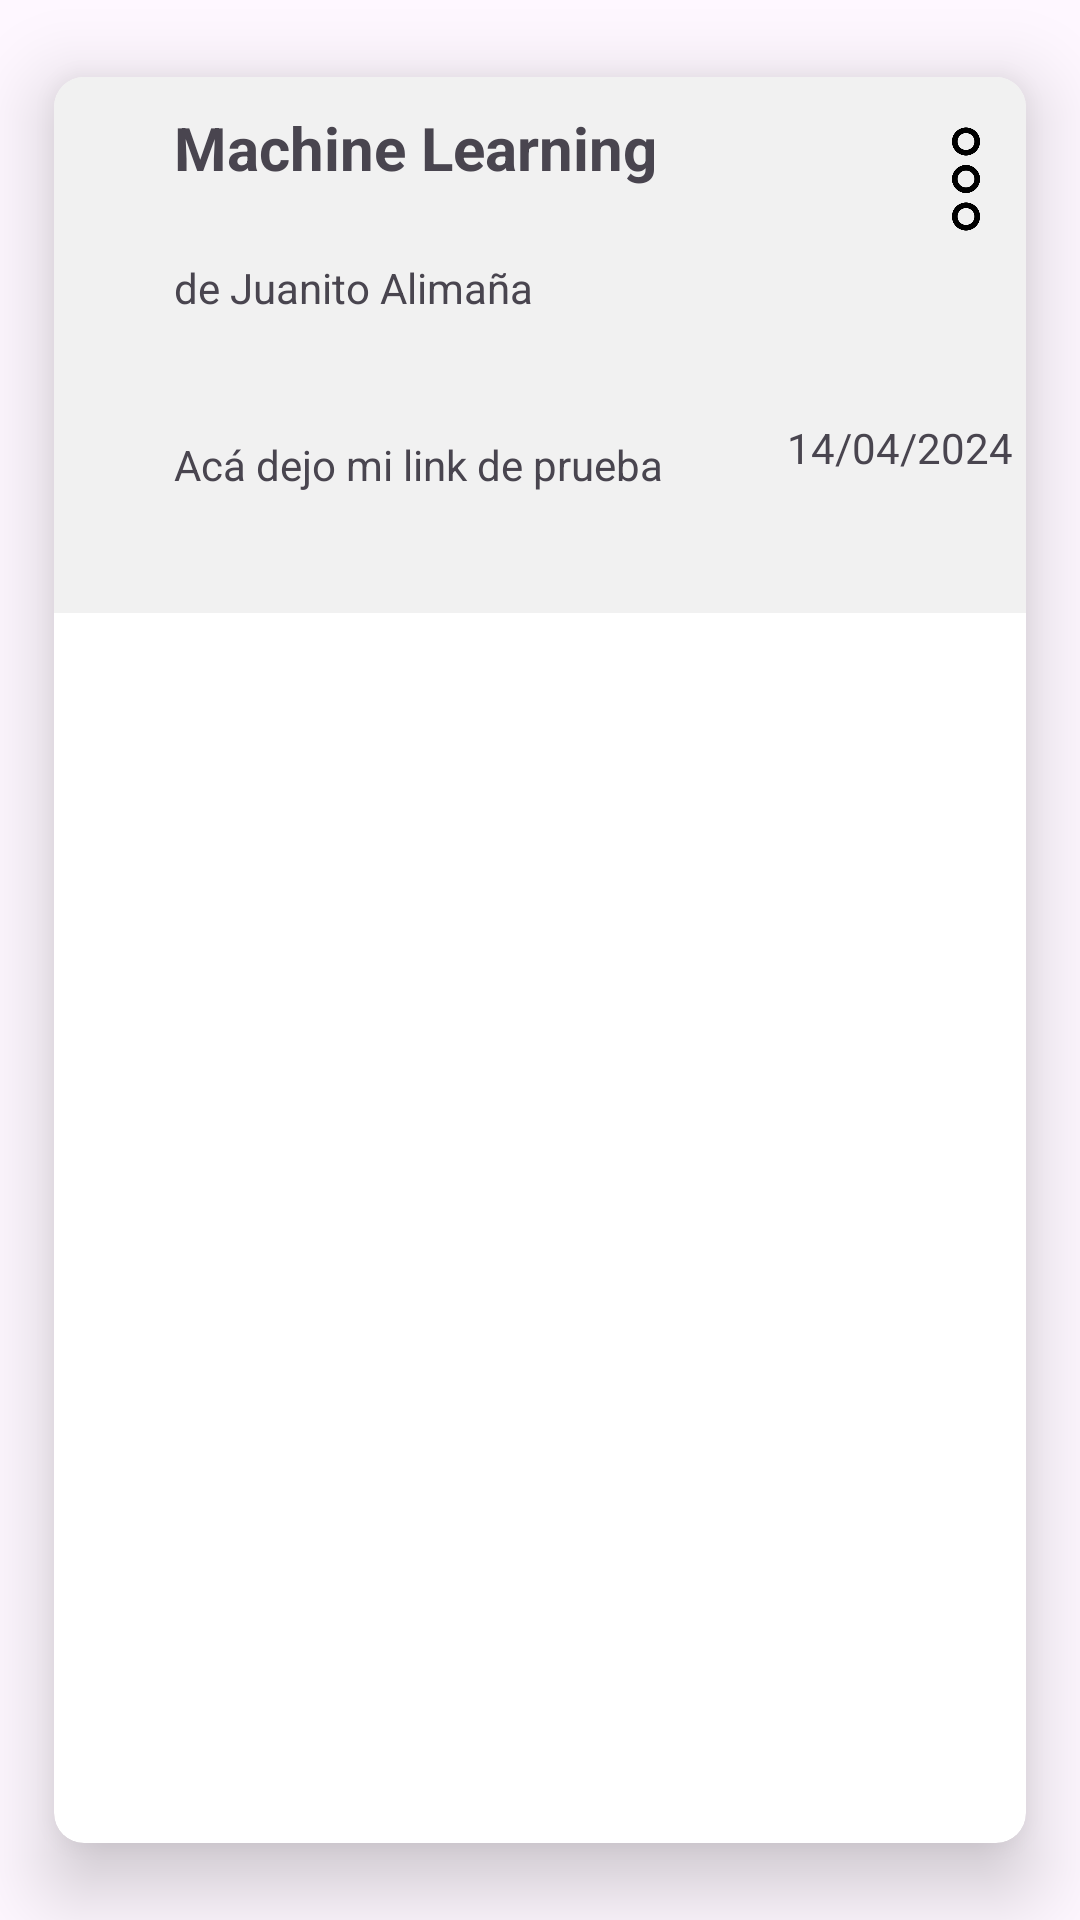

Point at icon controls on the screen. Image size 1080 x 1920, points as (x=x, y=y).
tree points: (x=966, y=179)
